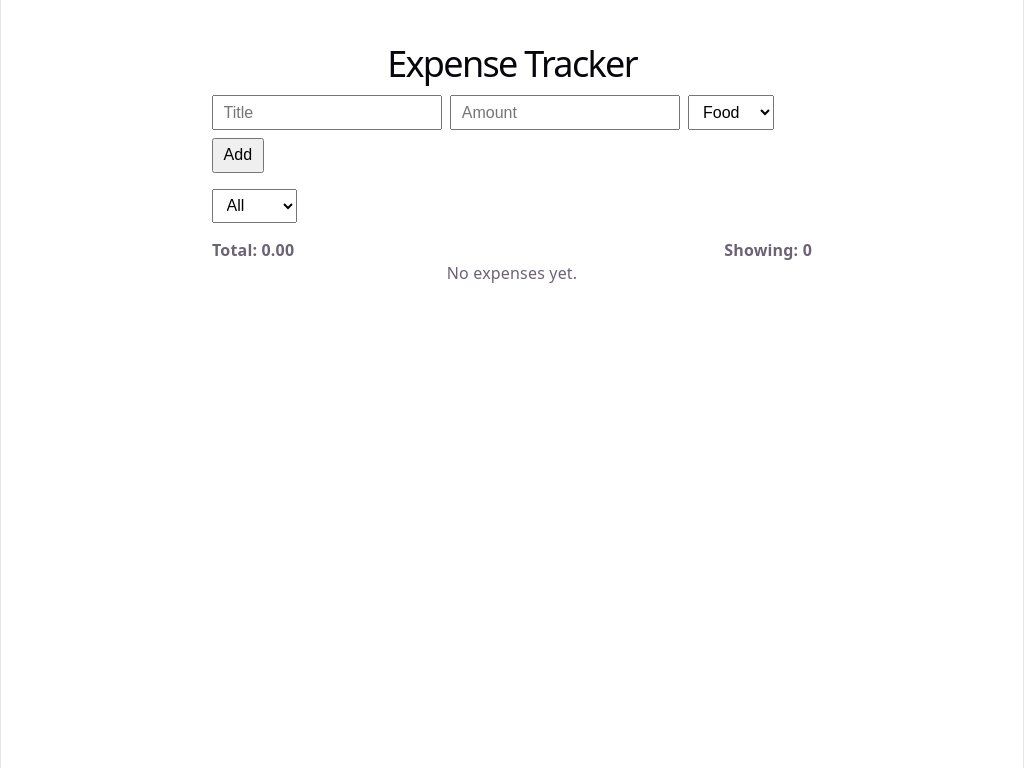
Scenario: invalid input › does not add an expense with a negative amount
In the field with test id "title": x=327, y=113 [212,95,442,130], type "Taxi"
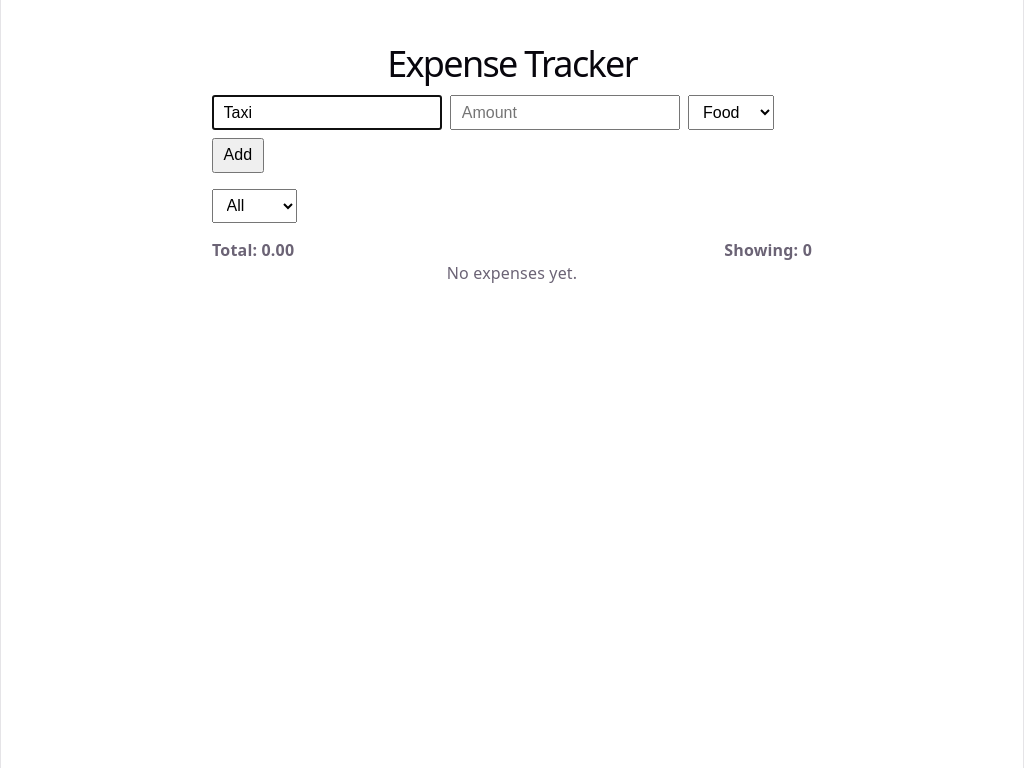
In the field with test id "amount": x=565, y=113 [450,95,680,130], type "-5"
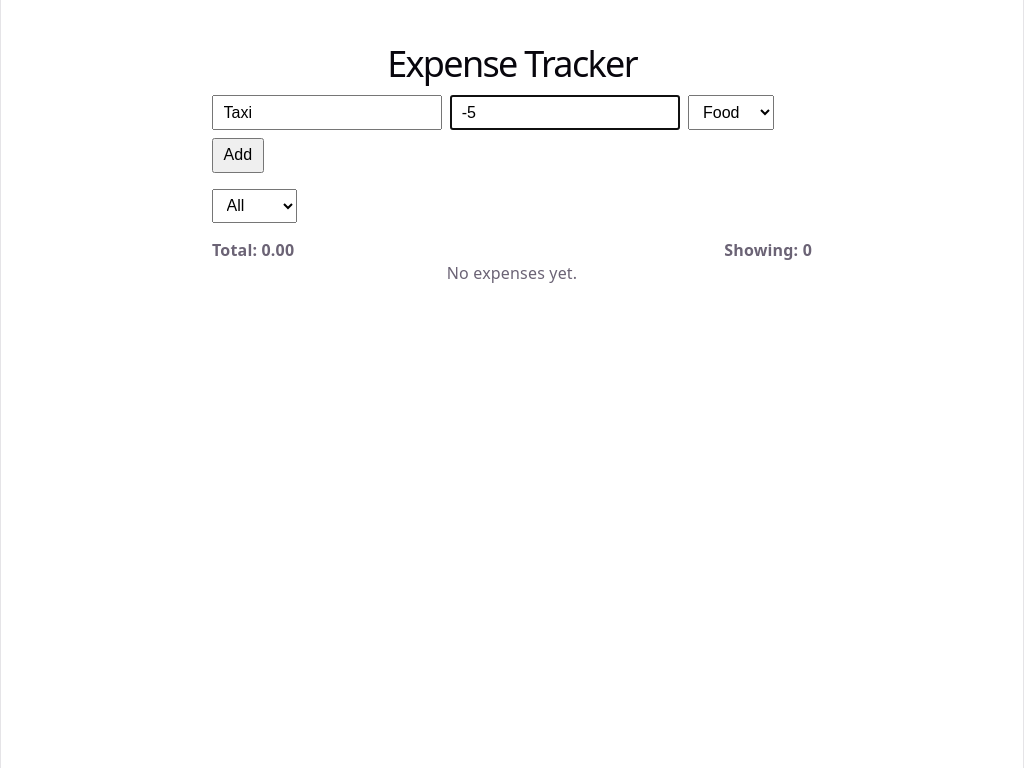
Click the button with test id "add-expense": x=238, y=156 [212,138,264,173]
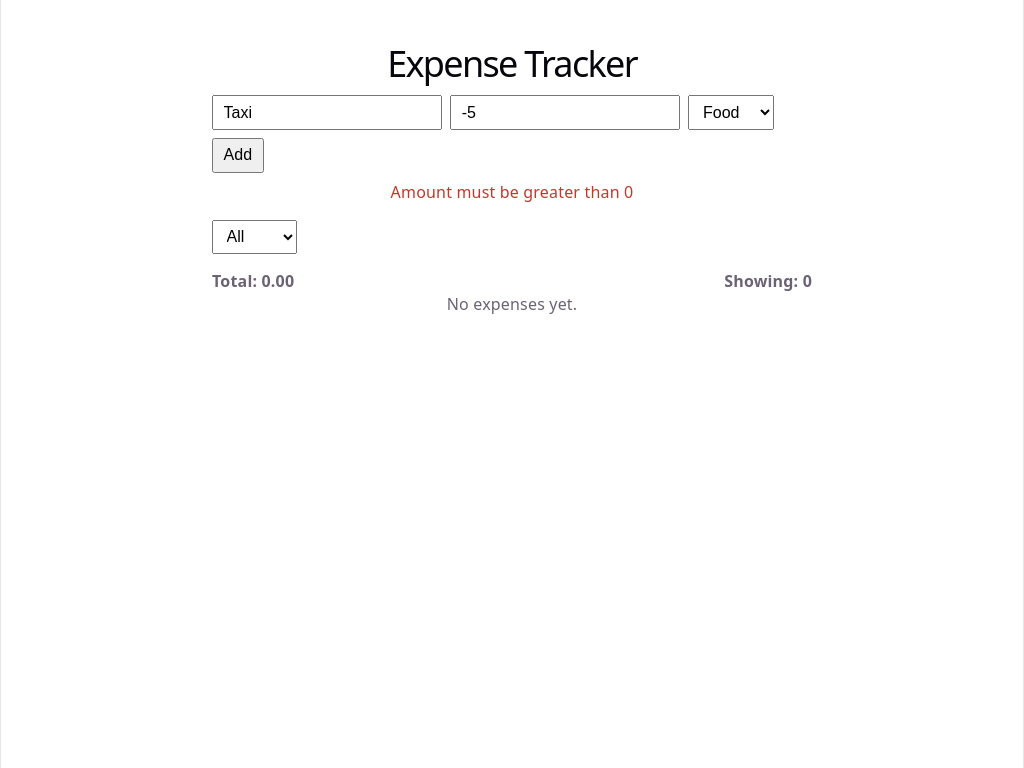
Check: the text "Amount must be greater than 0" is shown, box [391,181,633,203]
